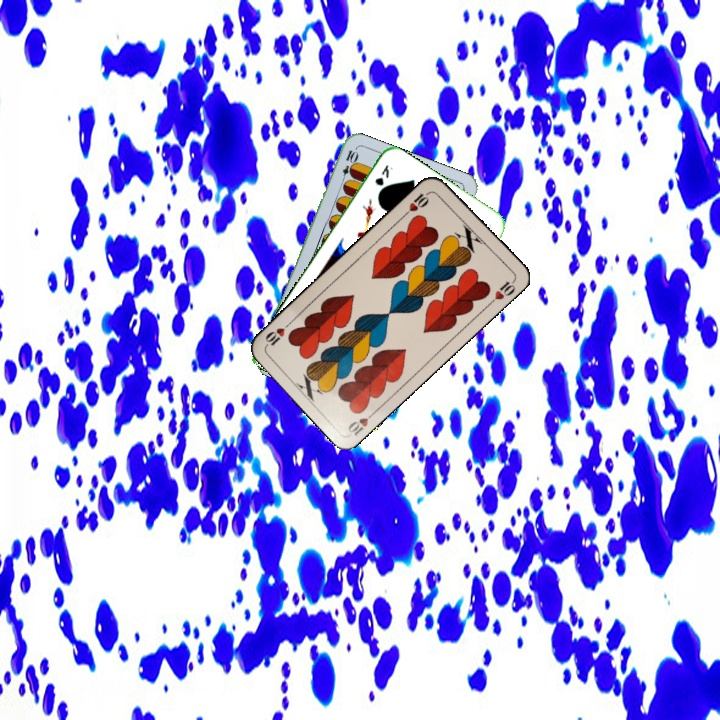E10: (337, 146, 359, 186)
GK: (371, 160, 392, 188)
H10: (344, 406, 379, 438), (400, 187, 433, 219)
